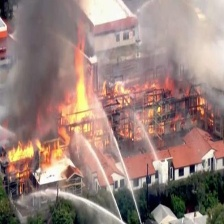fire: (105, 82, 211, 135), (70, 30, 105, 132), (1, 135, 71, 178)
smoke: (1, 1, 80, 129), (135, 1, 224, 84)
